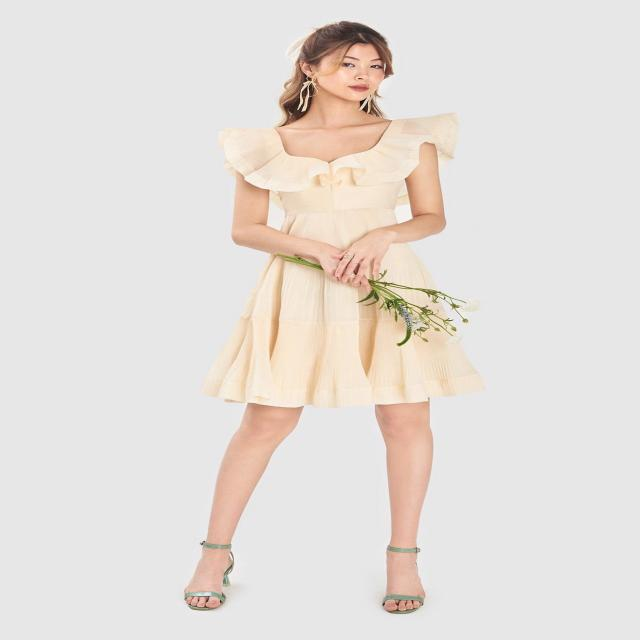clothes: (206, 114, 490, 408)
